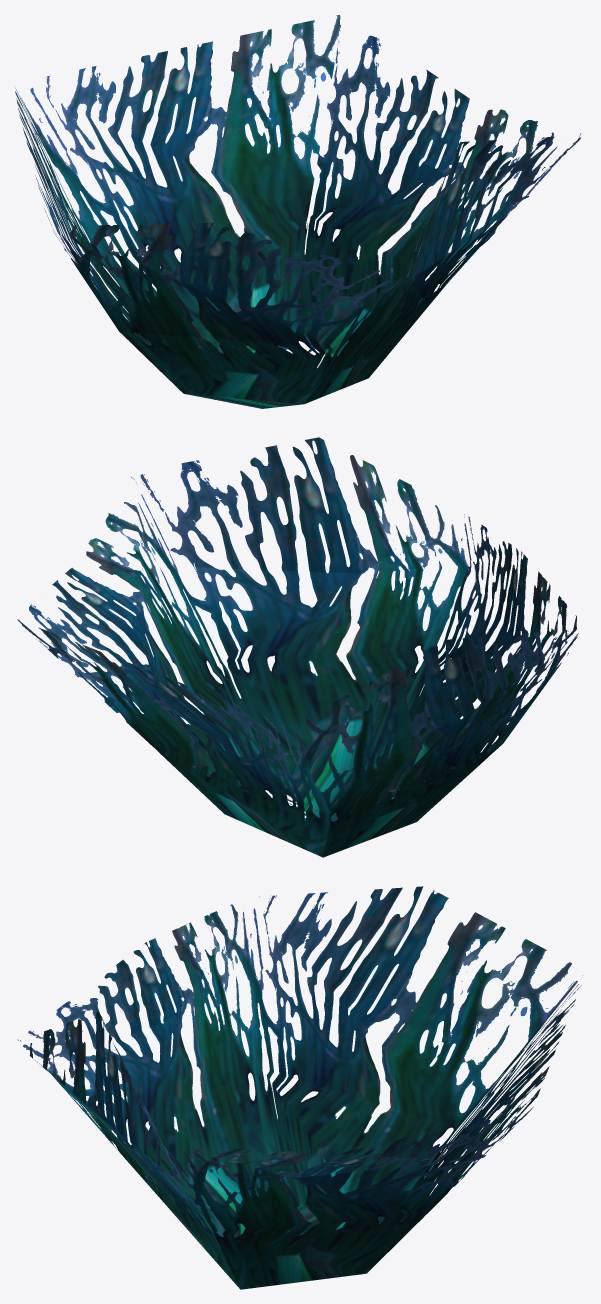
Rendered from H1_BluePlant_Corona1_1.gltf.
3 renders of one model, top to bottom at view 1: azimuth 30°, elevation 25°; view 2: azimuth 150°, elevation 25°; view 3: azimuth 270°, elevation 25°, orthographic. The views are drawn at different scales.
Parts seen in each view (by area): view 1: H1_BluePlant_Corona1_1; view 2: H1_BluePlant_Corona1_1; view 3: H1_BluePlant_Corona1_1.
Part boxes in pixels (left/top/right/bottom): H1_BluePlant_Corona1_1: left=14, top=15, right=581, bottom=408; H1_BluePlant_Corona1_1: left=17, top=437, right=578, bottom=857; H1_BluePlant_Corona1_1: left=17, top=886, right=582, bottom=1289.
Bounding box in the file's own units: 5.71 × 3.41 × 5.56.
Materials: 1 (1 with a texture image).
